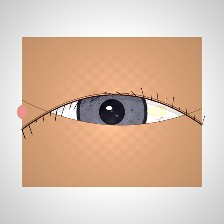pinguecula_lesion: (137, 95, 178, 127)
